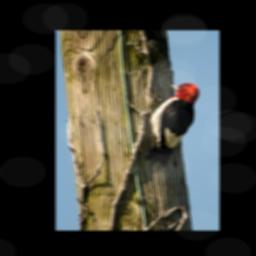Woodpecker: (136, 82, 200, 168)
